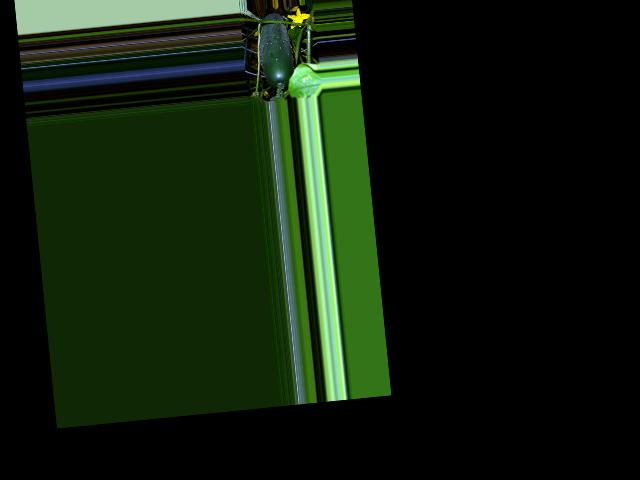cucumber: (255, 12, 295, 91)
